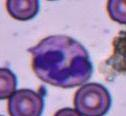N: (32, 34, 94, 88)
